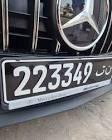audi: (5, 59, 112, 101)
